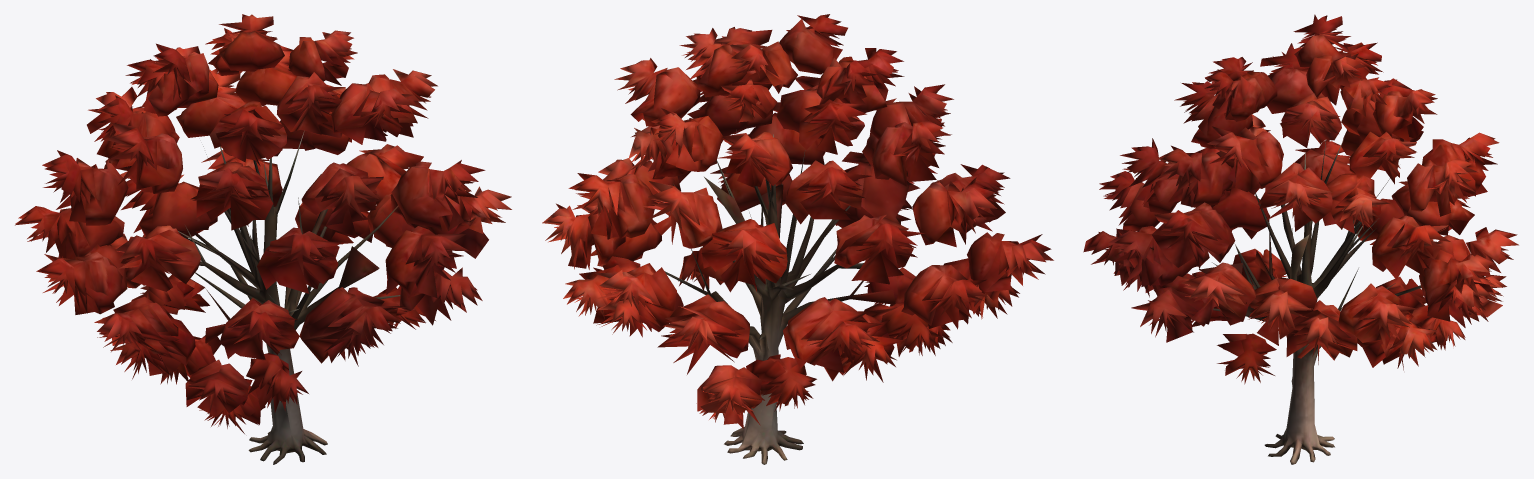
File: tree_maple_red.glb
3 views of the same model, side by side, from view 1: azimuth 30°, elevation 25°; view 2: azimuth 150°, elevation 25°; view 3: azimuth 270°, elevation 25° (orthographic). The views are drawn at different scales.
Parts seen in each view (by area): view 1: tripo_node_fcffdaf7-7f39-4e25-a1d5-b7f661302aab; view 2: tripo_node_fcffdaf7-7f39-4e25-a1d5-b7f661302aab; view 3: tripo_node_fcffdaf7-7f39-4e25-a1d5-b7f661302aab.
Boxes of the visible parts, x1,y1,x2,y2 form: tripo_node_fcffdaf7-7f39-4e25-a1d5-b7f661302aab: (15, 14, 511, 464); tripo_node_fcffdaf7-7f39-4e25-a1d5-b7f661302aab: (542, 14, 1053, 464); tripo_node_fcffdaf7-7f39-4e25-a1d5-b7f661302aab: (1083, 14, 1518, 464).
Size of the model in its own units: 0.998 by 0.9785 by 0.998.
1 material, 1 textured.
